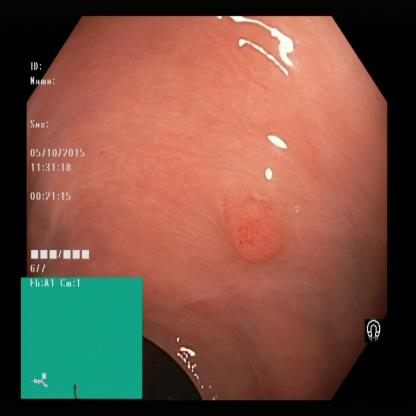Labels: (22, 274, 146, 400), (24, 58, 94, 278), (359, 312, 388, 353)
Polyps: (218, 169, 286, 272)
